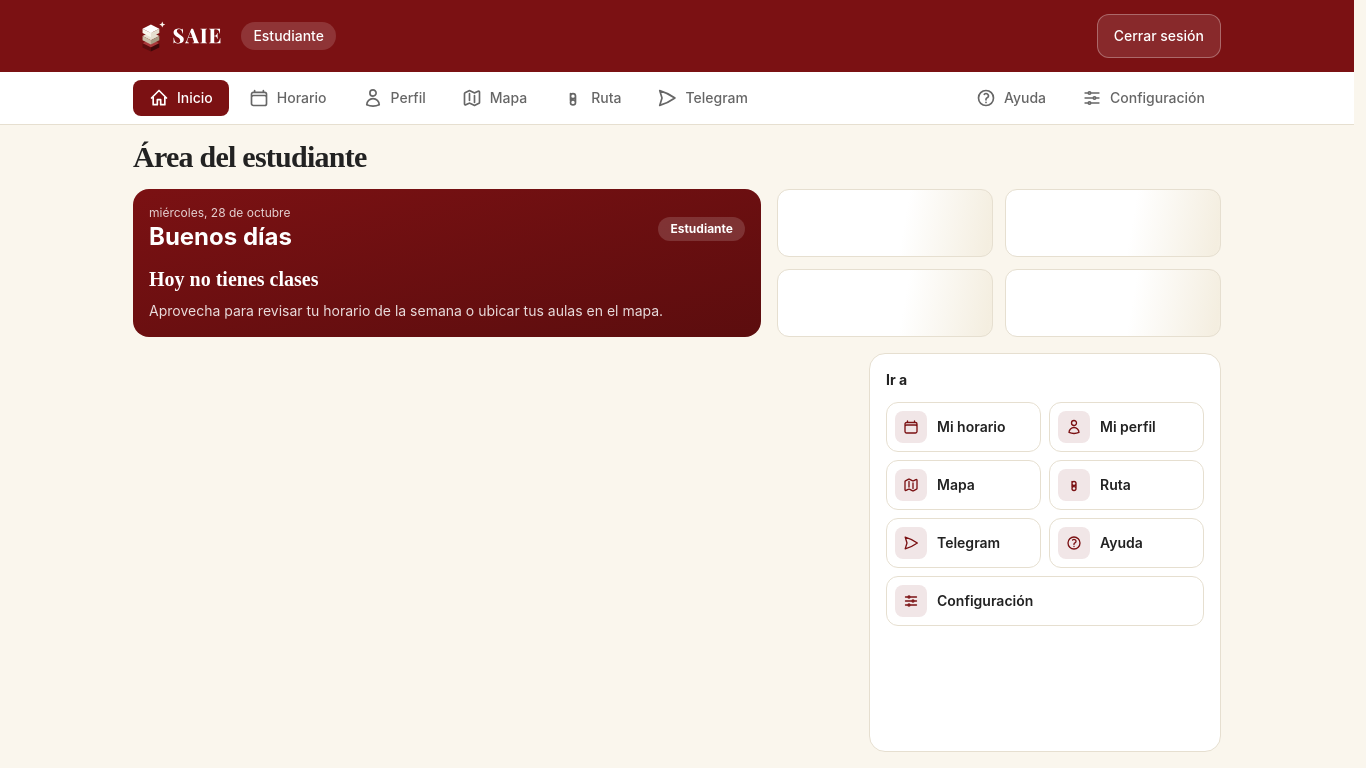
Test case: Rutas, sesión y roles (Issue #217 / 4.25) › cerrar sesión › borra el token y vuelve al login (ALUMNO)
Step 1. Click the button "Cerrar sesión" → coordinates (1159, 36), box [1097,14,1221,58]
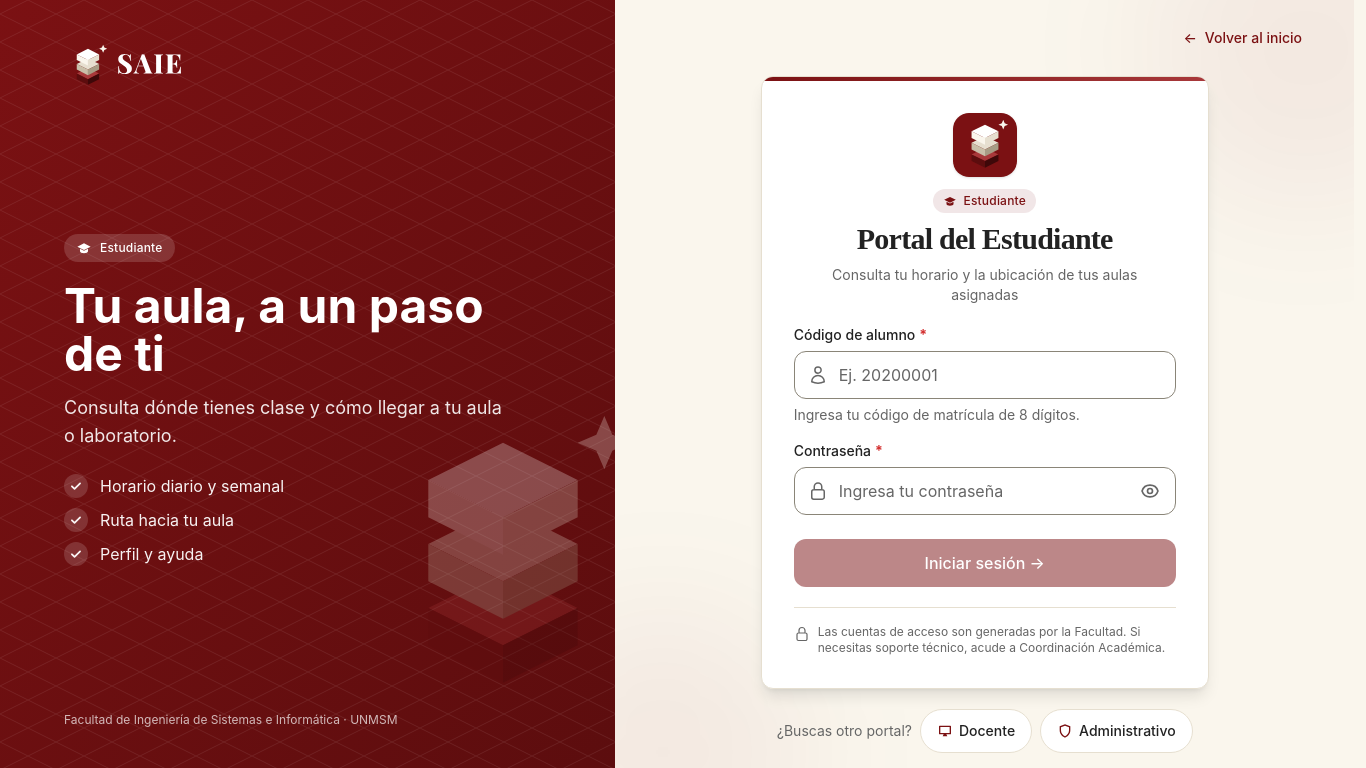
Expected: the heading "Portal del Estudiante" is shown, [857,221,1113,257]
